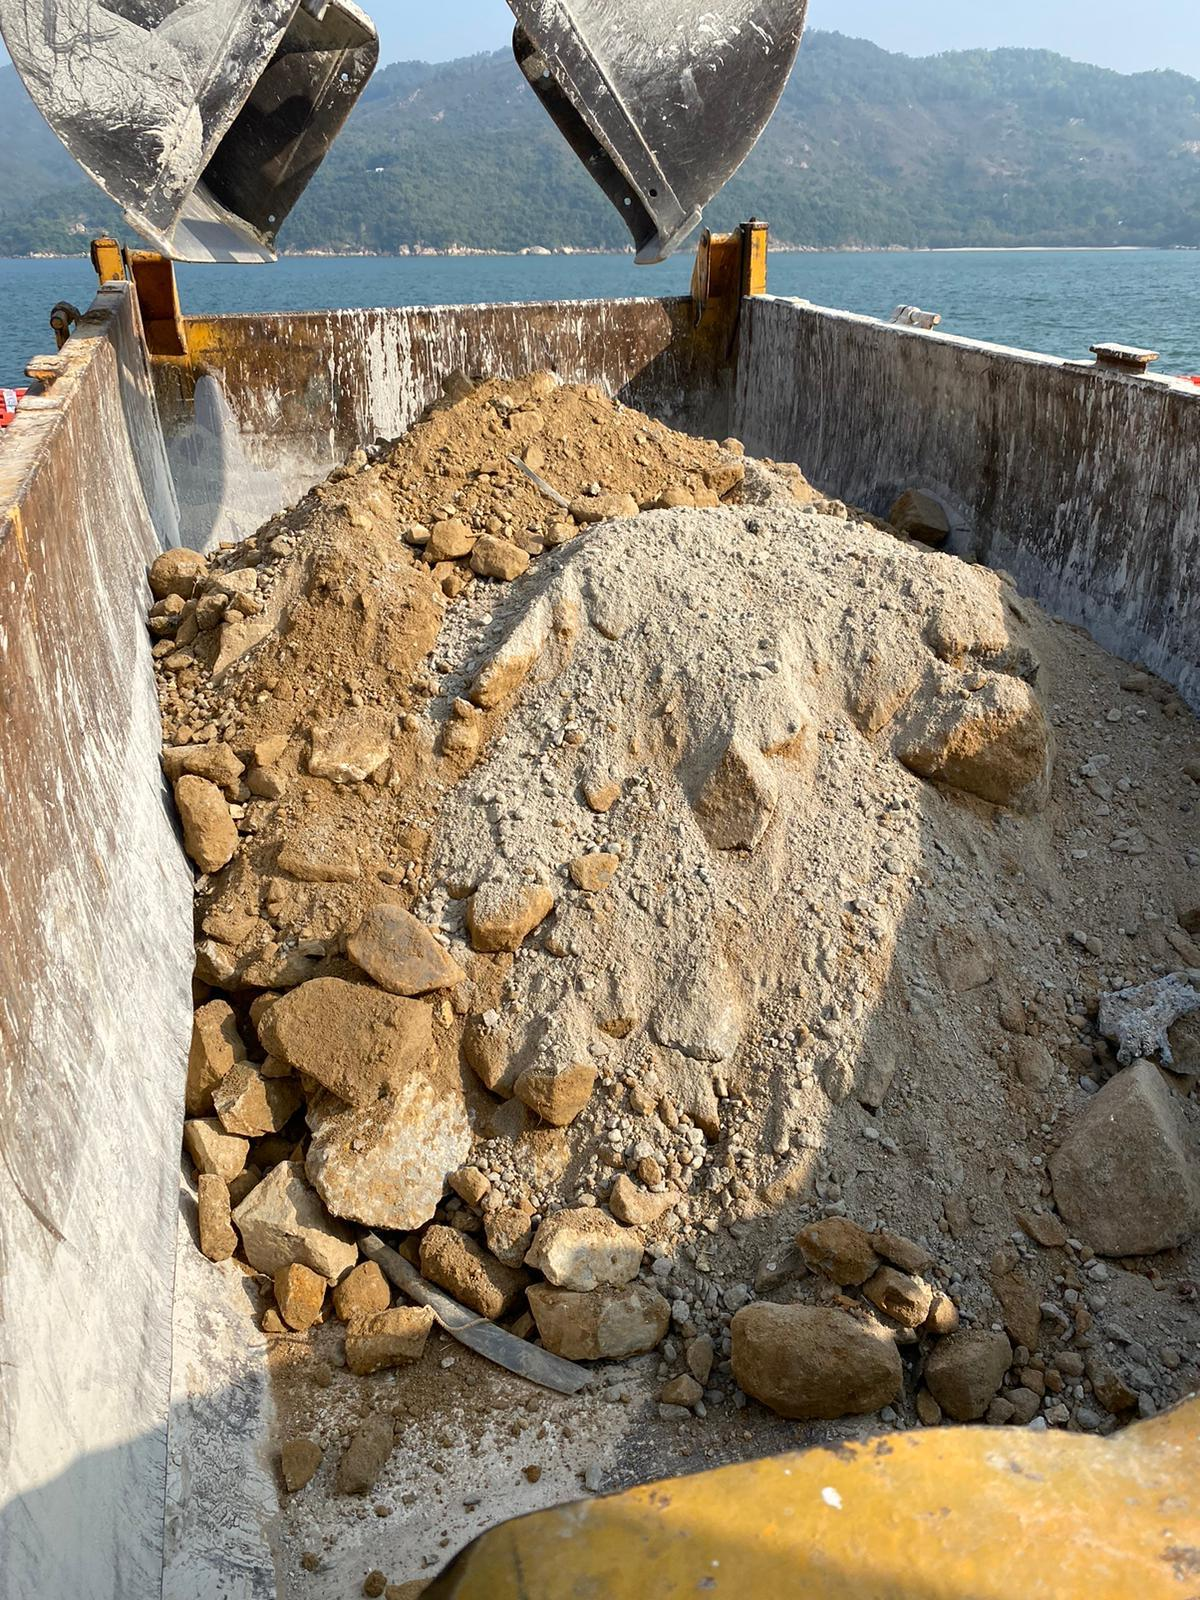dirt: (150, 366, 1197, 1594)
stone: (1046, 1057, 1198, 1257), (303, 1068, 474, 1230), (884, 661, 1050, 807), (256, 974, 435, 1106), (728, 1299, 903, 1420), (230, 1158, 359, 1284), (524, 1279, 671, 1360), (342, 901, 466, 995), (523, 1204, 644, 1290), (417, 1222, 522, 1319), (920, 1326, 1012, 1421), (172, 772, 239, 873), (465, 877, 555, 951), (343, 1303, 435, 1373), (793, 1215, 878, 1286), (512, 1060, 597, 1124), (467, 531, 530, 581), (422, 516, 475, 560)
